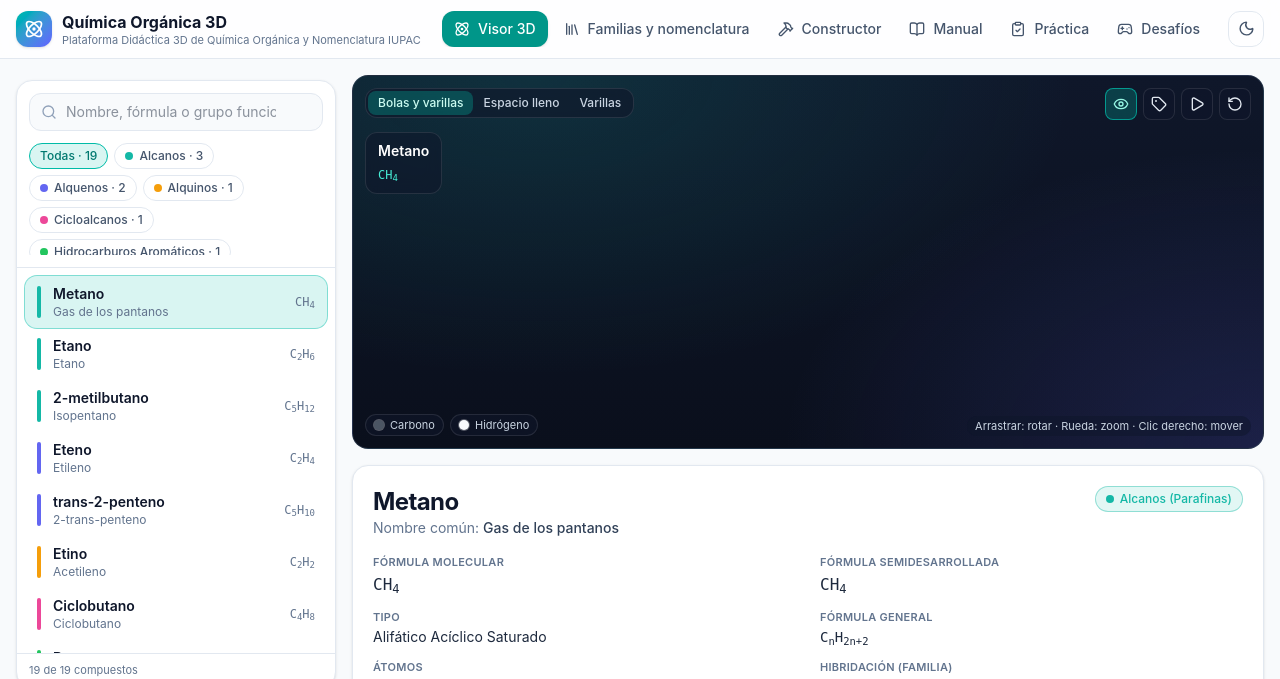
Test case: Práctica de parcial › una sesión aleatoria arma el número de ejercicios pedido
What coordinates should you click on to do the following:
click the button "Práctica"
I would click on:
 (1050, 29)
Its box is x1=998 y1=11 x2=1101 y2=47.
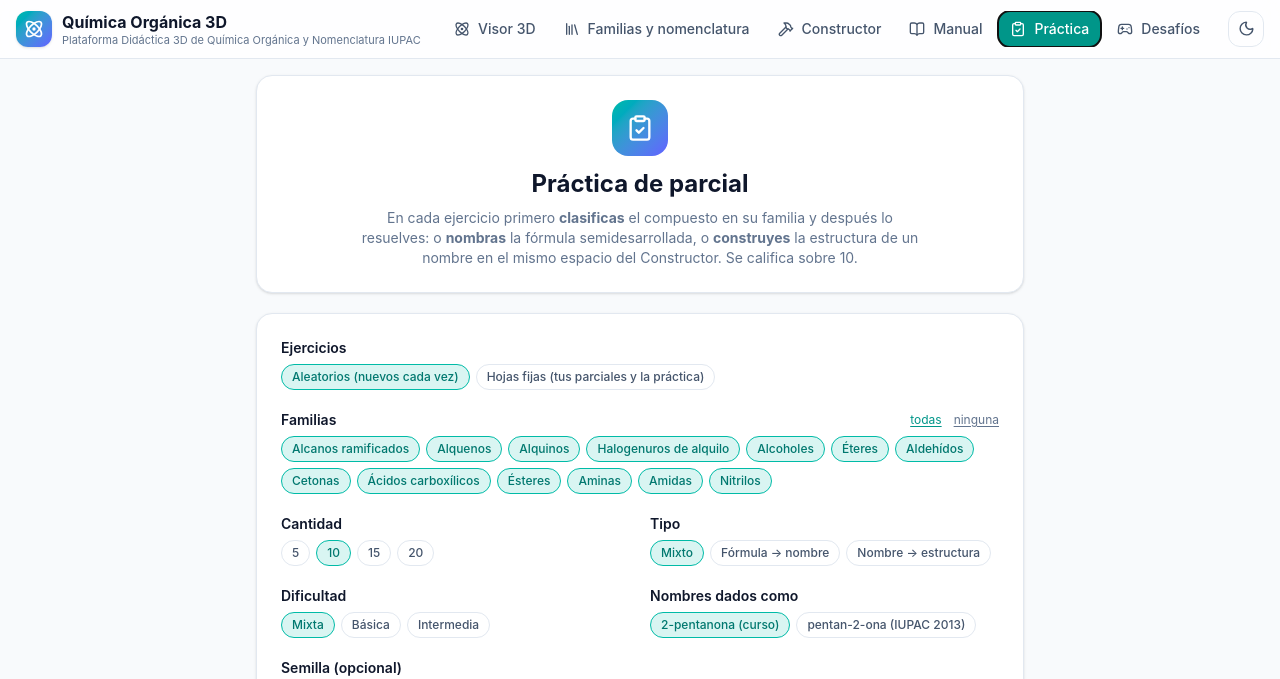
What coordinates should you click on to do the following:
click the button "5"
I would click on:
 (296, 553)
Its box is x1=281 y1=540 x2=310 y2=566.
(page scrolled)
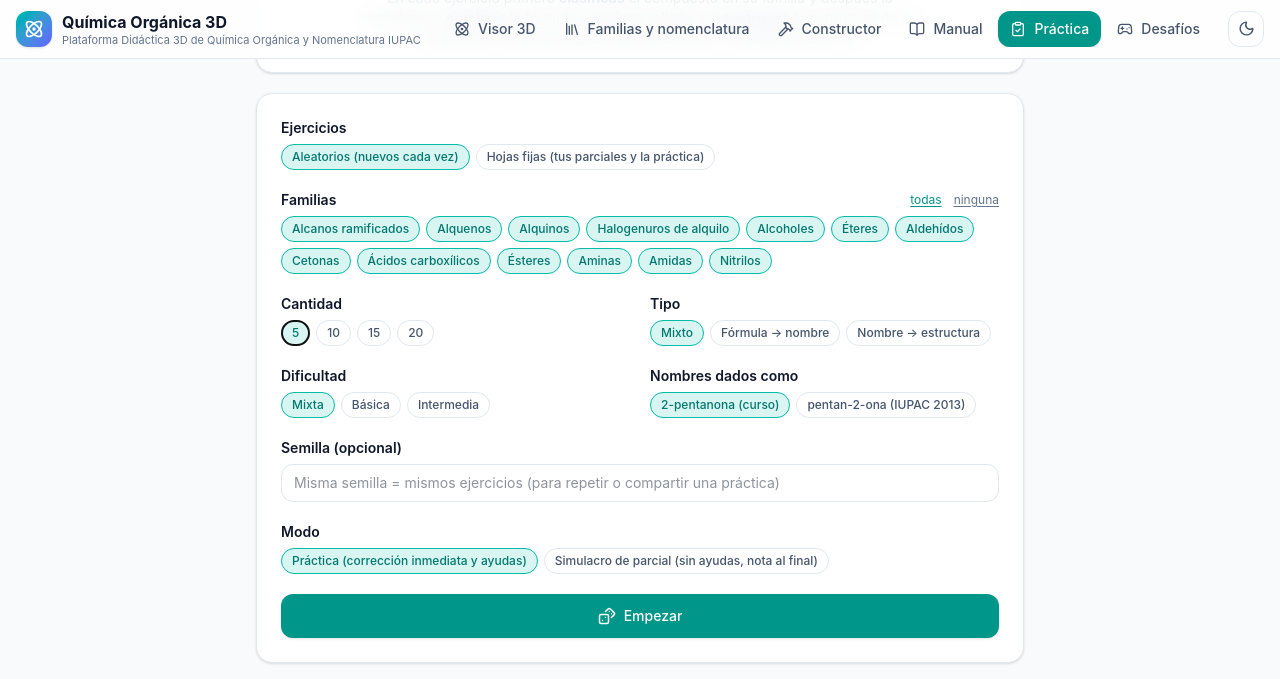
What coordinates should you click on to do the following:
click the button "Empezar"
I would click on:
 (640, 616)
Its box is x1=281 y1=594 x2=999 y2=638.
(page scrolled)
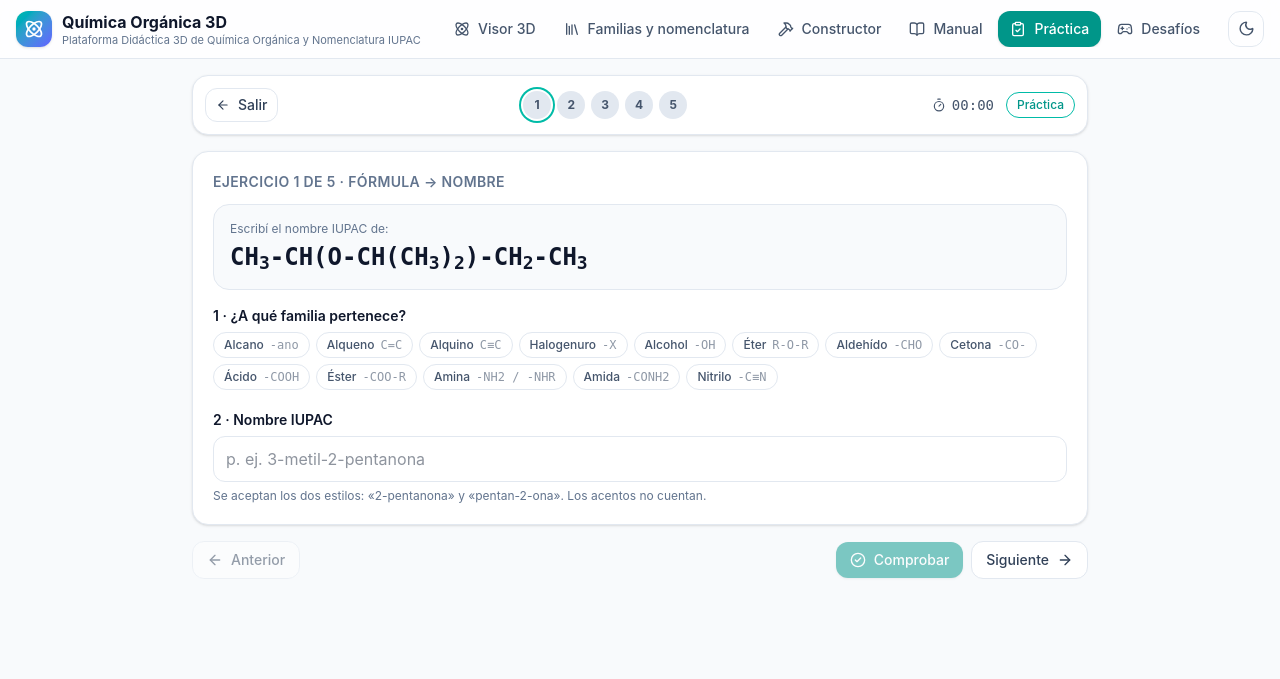
Check: the heading "Ejercicio 1 de 5 · Fórmula → nombre" is shown, box x1=213 y1=172 x2=505 y2=192
Check: the number of buttons named "Ir al ejercicio" is 5, box x1=523 y1=91 x2=551 y2=119; x1=557 y1=91 x2=585 y2=119; x1=591 y1=91 x2=619 y2=119; x1=625 y1=91 x2=653 y2=119; x1=659 y1=91 x2=687 y2=119
Check: the text "1 · ¿A qué familia pertenece?" is shown, box x1=213 y1=306 x2=406 y2=326
